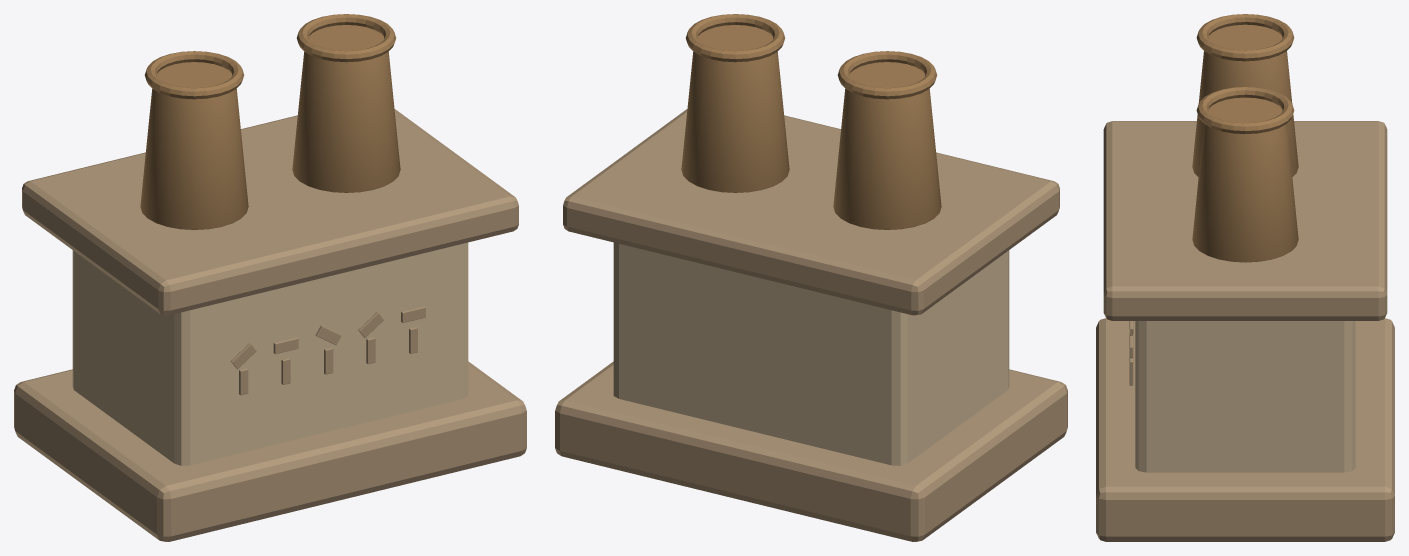
File: artefact-plinth.glb
3 views of the same model, side by side, from view 1: azimuth 30°, elevation 25°; view 2: azimuth 150°, elevation 25°; view 3: azimuth 270°, elevation 25° (orthographic).
Visible parts, largest first — view 1: Plinth, Cap, Base, Replica vessel, Replica vessel.001, Vessel rim, Vessel rim.001; view 2: Plinth, Cap, Base, Replica vessel, Replica vessel.001, Vessel rim, Vessel rim.001; view 3: Cap, Plinth, Base, Replica vessel.001, Replica vessel, Vessel rim, Vessel rim.001.
Part boxes in pixels (box(x1,y1,x2,y2)): Plinth: box(72, 242, 468, 465); Cap: box(22, 109, 518, 315); Base: box(14, 361, 526, 541); Replica vessel: box(140, 62, 248, 229); Replica vessel.001: box(292, 25, 400, 192); Vessel rim: box(144, 51, 244, 99); Vessel rim.001: box(296, 14, 396, 62); Plinth: box(613, 242, 1009, 465); Cap: box(563, 109, 1059, 315); Base: box(555, 361, 1067, 541); Replica vessel: box(833, 62, 941, 229); Replica vessel.001: box(681, 25, 789, 192); Vessel rim: box(837, 51, 937, 99); Vessel rim.001: box(685, 14, 785, 62); Cap: box(1103, 121, 1387, 320); Plinth: box(1135, 321, 1355, 472); Base: box(1096, 318, 1394, 541); Replica vessel.001: box(1192, 97, 1298, 262); Replica vessel: box(1192, 24, 1298, 176); Vessel rim: box(1196, 14, 1294, 61); Vessel rim.001: box(1196, 87, 1294, 133).
Bounding box in the file's own units: 1.65 × 1.69 × 1.18.
